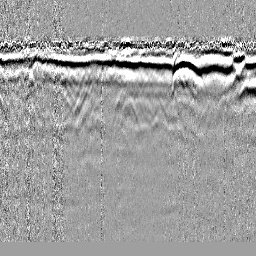cavity: (118, 95, 139, 127)
